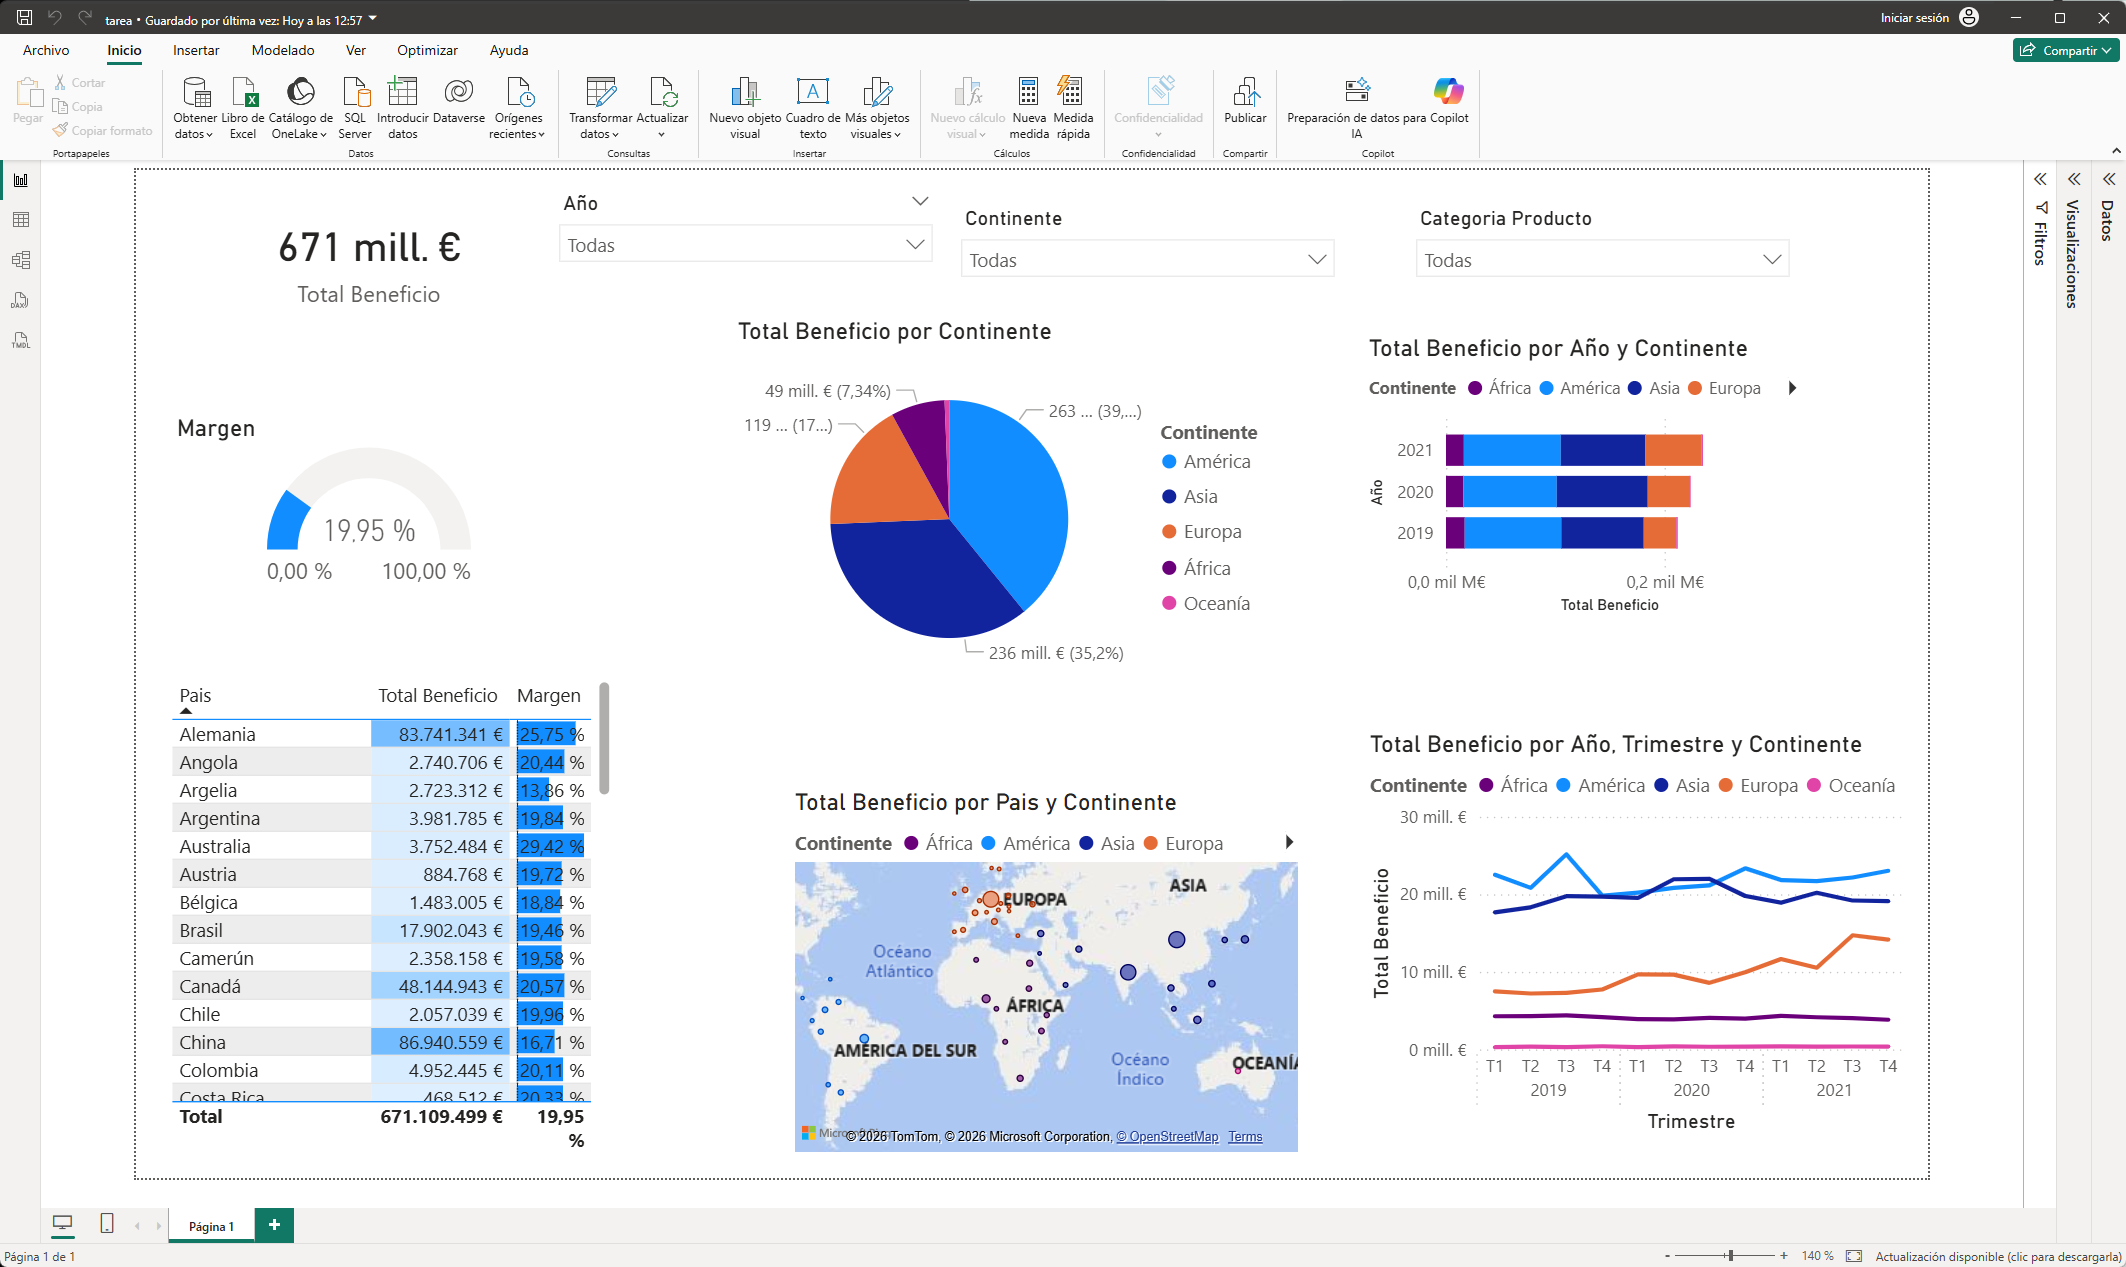

The page's visual inventory and layout, read from the dashboard file:
{"tool":"powerbi","page":{"name":"Página 1","canvas":[1280,720],"ordinal":0},"visuals":[{"type":"tableEx","fields":{"Values":["Tabla Datos.Pais","Tabla Datos.Total Utilidad","Tabla Datos.Margen"]},"box":[20,360,324.3,347.1],"z":0},{"type":"card","fields":{"Values":["Tabla Datos.Total Beneficio"]},"box":[40,0,252.9,127.1],"z":1000},{"type":"barChart","fields":{"Category":["Tabla Datos.Año"],"Series":["Tabla Datos.Continente"],"Y":["Tabla Datos.Total Beneficio"]},"box":[875.7,117.1,327.1,204.3],"z":2000},{"type":"pieChart","fields":{"Category":["Tabla Datos.Continente"],"Y":["Tabla Datos.Total Beneficio"]},"box":[425.3,104.7,399.8,269.7],"z":3000},{"type":"gauge","fields":{"Y":["Tabla Datos.Margen"]},"box":[24.3,174.3,284.3,132.9],"z":4000},{"type":"map","fields":{"Category":["Tabla Datos.Pais"],"Series":["Tabla Datos.Continente"],"Size":["Tabla Datos.Total Beneficio"]},"box":[465.6,441.4,369,265.7],"z":5000},{"type":"lineChart","fields":{"Category":["Tabla Datos.Año","Tabla Datos.Trimestre"],"Y":["Tabla Datos.Total Beneficio"],"Series":["Tabla Datos.Continente"]},"box":[876.1,399.8,390.4,292.5],"z":6000},{"type":"slicer","fields":{"Values":["Tabla Productos.Categoria Producto"]},"box":[904.3,21.5,287.1,83.2],"z":6001},{"type":"slicer","fields":{"Values":["Tabla Datos.Continente"]},"box":[579.6,21.5,287.1,83.2],"z":6002},{"type":"slicer","fields":{"Values":["Tabla Datos.Año"]},"box":[292.5,10.7,287.1,83.2],"z":6003}]}

Visuals, with their boxes on the page's 1280x720 design canvas (x1, y1, x2, y2). These are canvas units, not pixel positions in the 2126x1267 screenshot, which may show the page scaled, cropped or inside an application window:
tableEx - Tabla Datos.Pais x Tabla Datos.Total Utilidad: [20,360,344,707]
card - Tabla Datos.Total Beneficio: [40,0,293,127]
barChart - Tabla Datos.Año x Tabla Datos.Continente: [876,117,1203,321]
pieChart - Tabla Datos.Continente x Tabla Datos.Total Beneficio: [425,105,825,374]
gauge - Tabla Datos.Margen: [24,174,309,307]
map - Tabla Datos.Pais x Tabla Datos.Continente: [466,441,835,707]
lineChart - Tabla Datos.Año x Tabla Datos.Trimestre: [876,400,1266,692]
slicer - Tabla Productos.Categoria Producto: [904,22,1191,105]
slicer - Tabla Datos.Continente: [580,22,867,105]
slicer - Tabla Datos.Año: [292,11,580,94]
